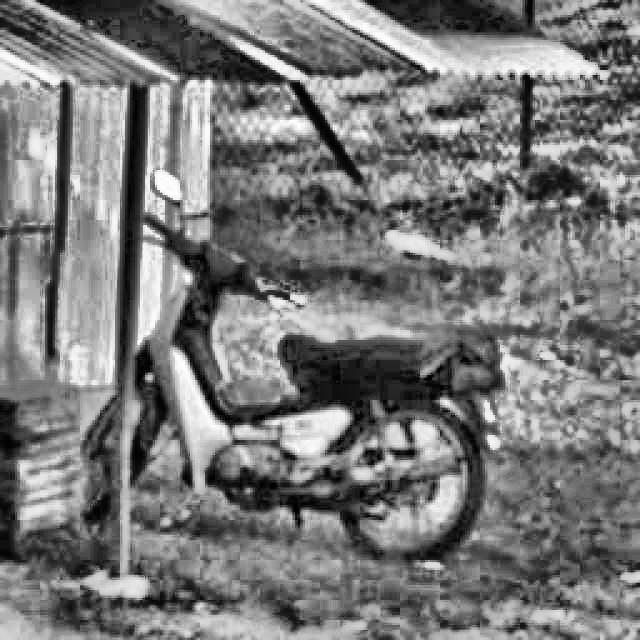motorcycle: (88, 155, 516, 564)
